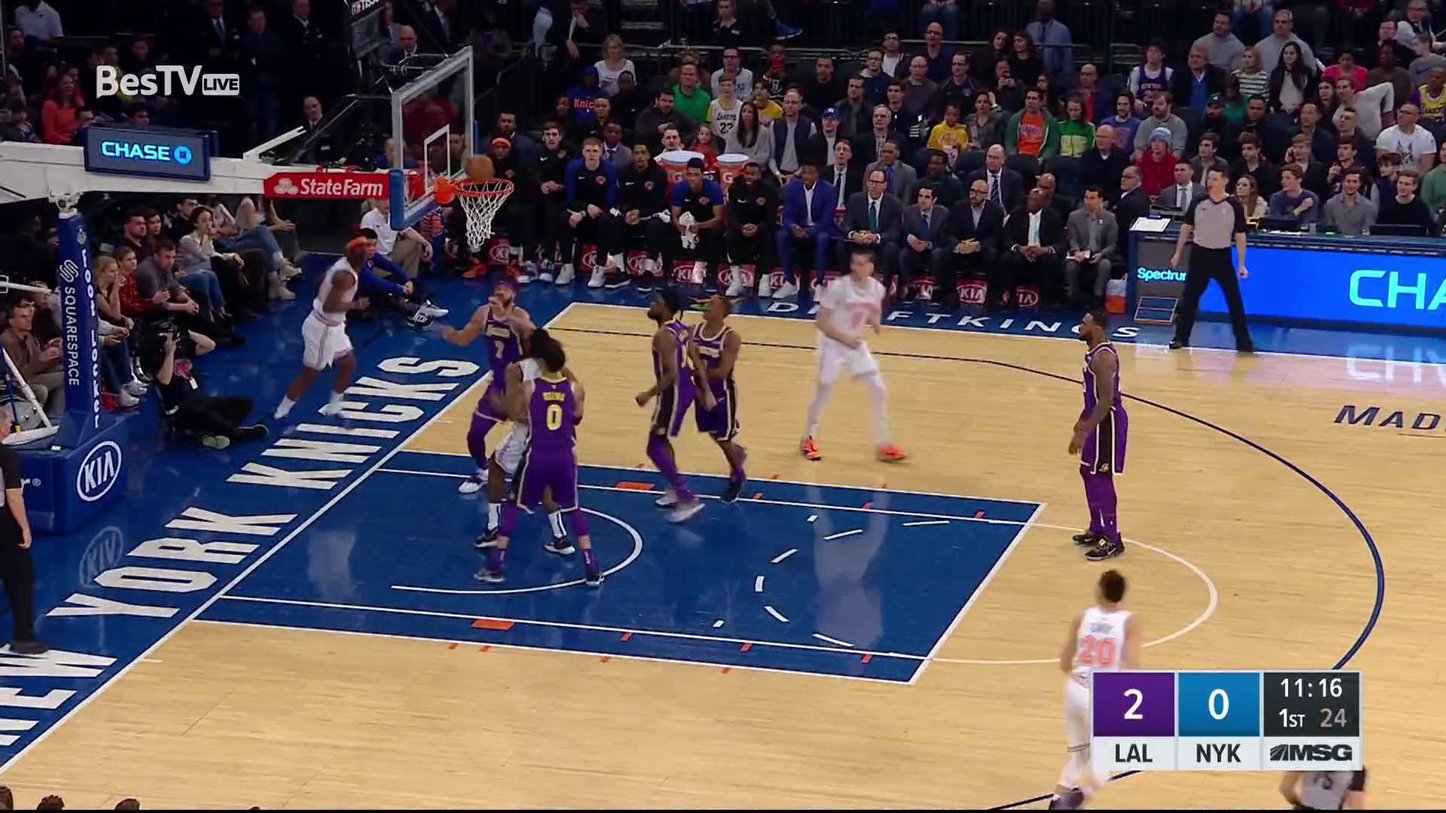basketball: (464, 151, 496, 181)
